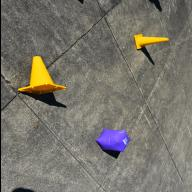cone: (16, 57, 66, 94), (134, 34, 168, 50)
cube: (95, 128, 130, 152)
